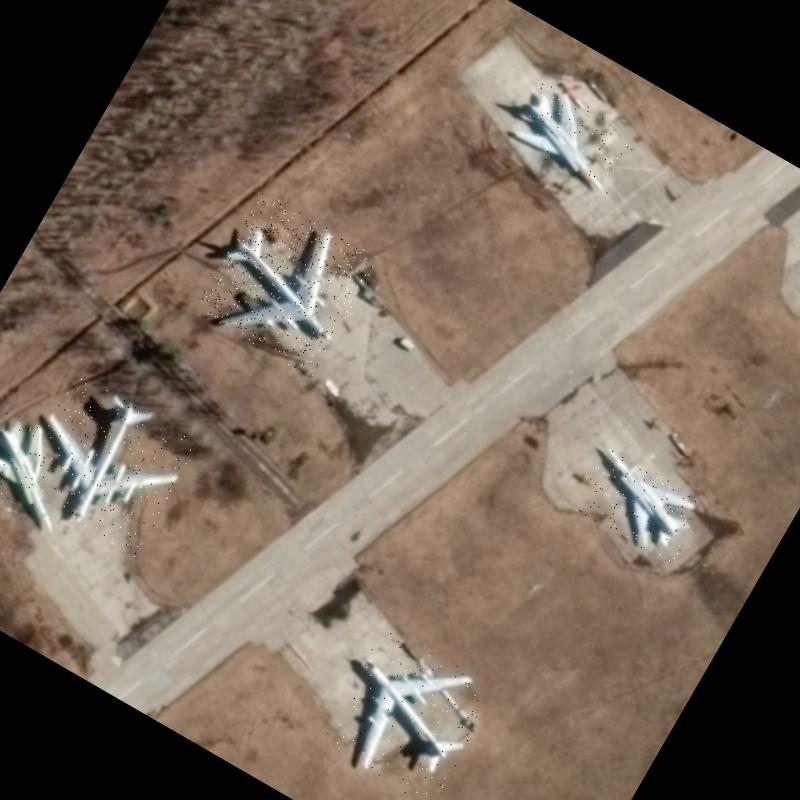A12: (504, 76, 641, 196), (572, 447, 708, 566), (0, 403, 99, 534)
A17: (8, 366, 204, 558), (193, 191, 380, 379), (317, 624, 500, 800)
